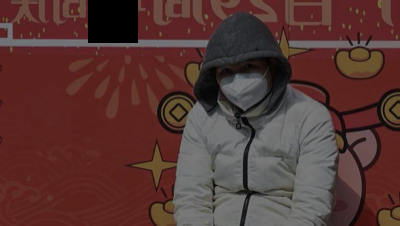with_mask: (216, 59, 275, 114)
